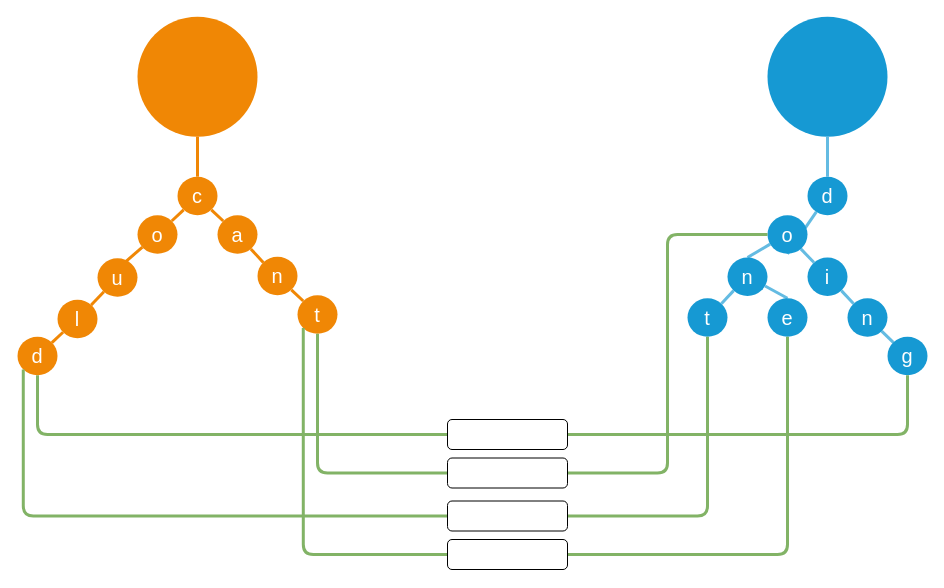
Some shapes in this 944 by 588 pixel diagram are drawn without their labels. The centre of each missing label's shape, as x and y in pixels:
A-root: the point at 197,76
B-root: the point at 827,76
cant-do: the point at 507,472
cant-done: the point at 507,554
could-doing: the point at 507,434
could-dont: the point at 507,515
